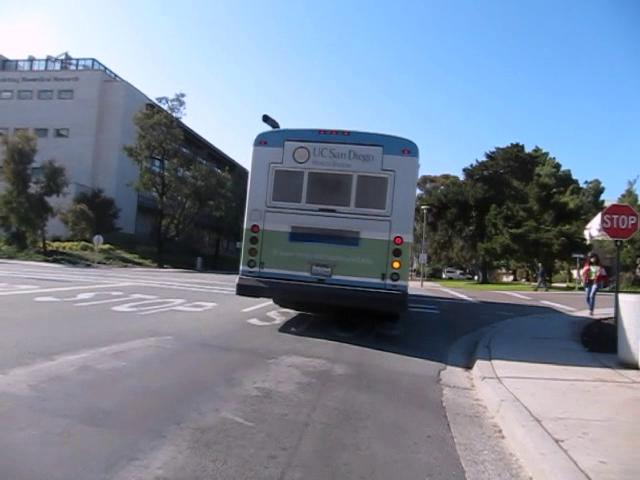stop: (599, 203, 639, 240)
